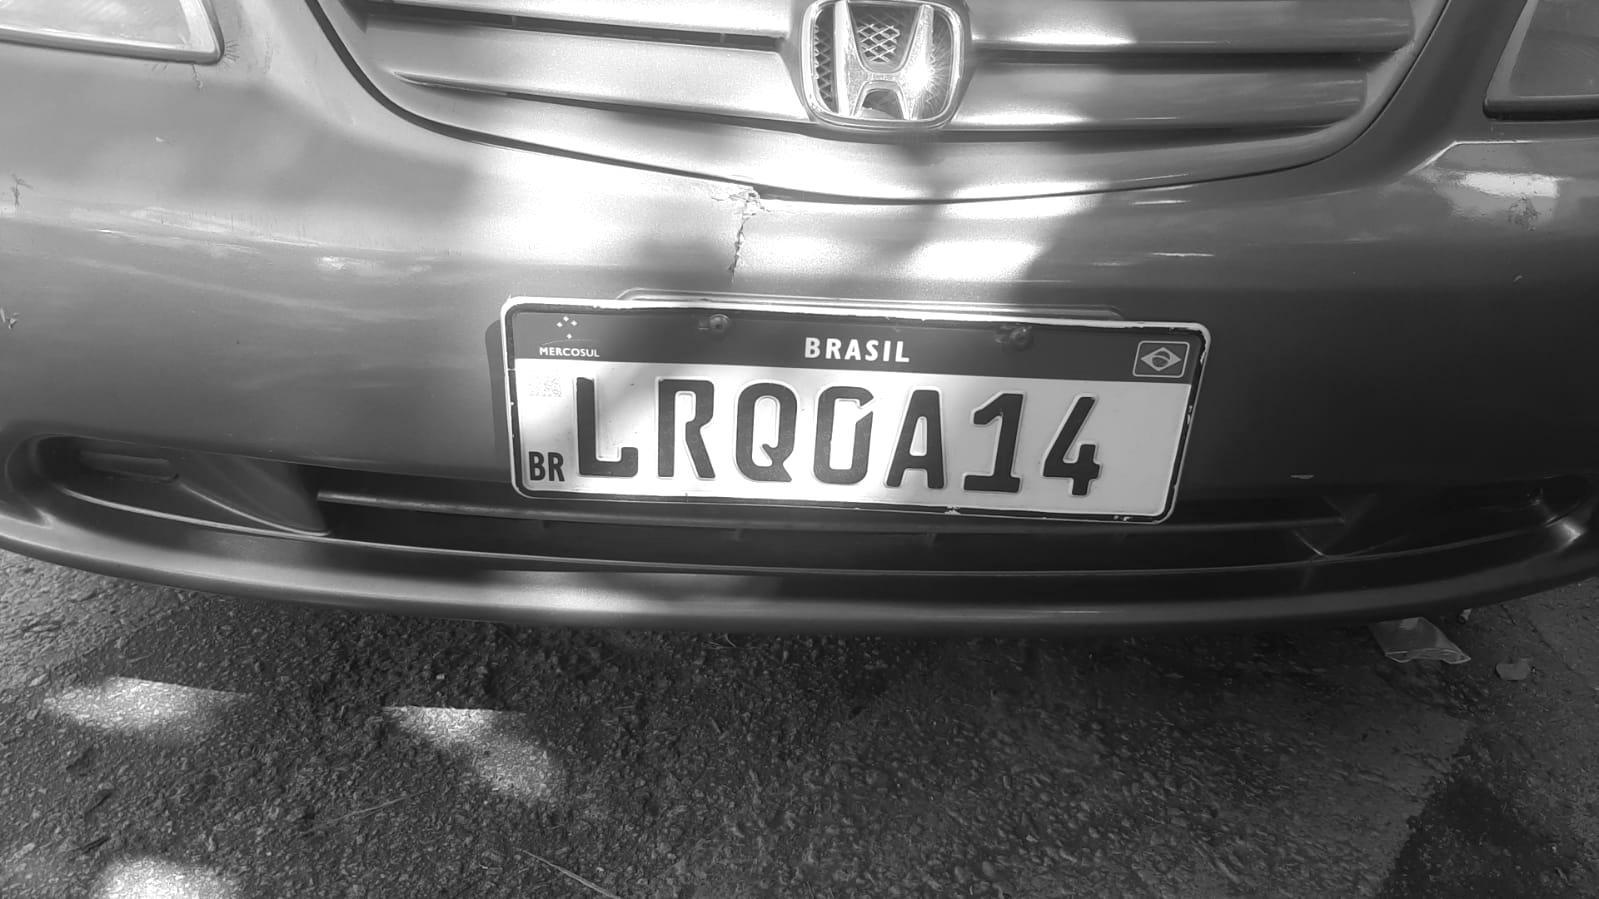placa_mercosul: (502, 299, 1209, 523)
